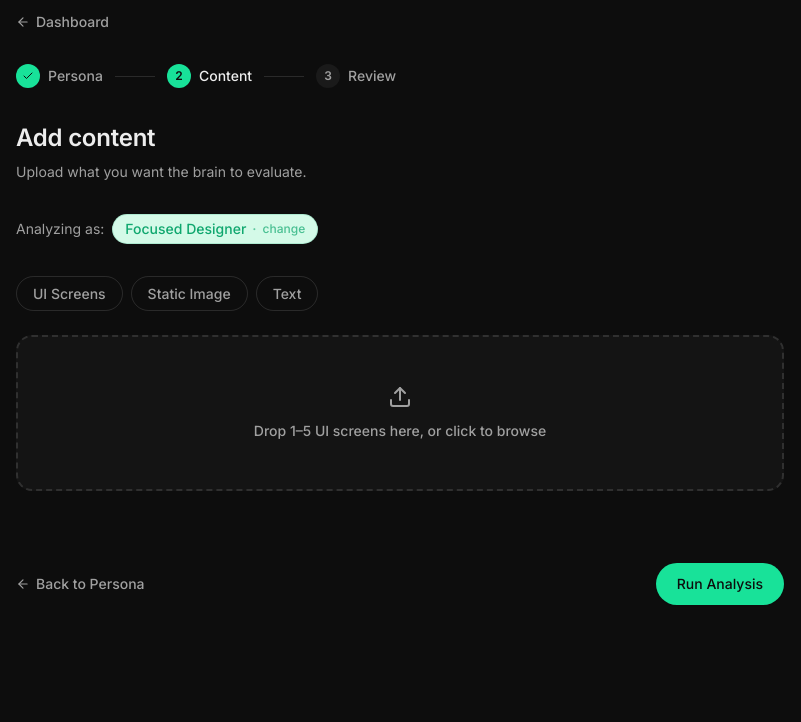
Test: ContentStepPage submit gating › clears stored content when the content-type tab changes
The width and height of the screenshot is (801, 722).
Expected: the button "Run Analysis" is enabled, [656,563,784,605]
Click the tab "Text" at (287, 294), box [256,276,318,311]
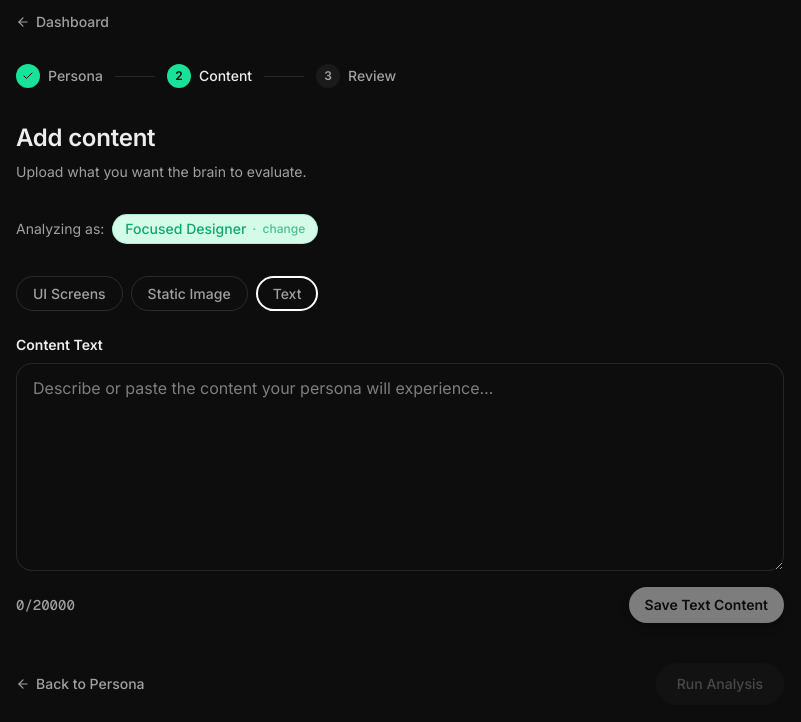
Result: the button "Run Analysis" is disabled at [656,663,784,705]
